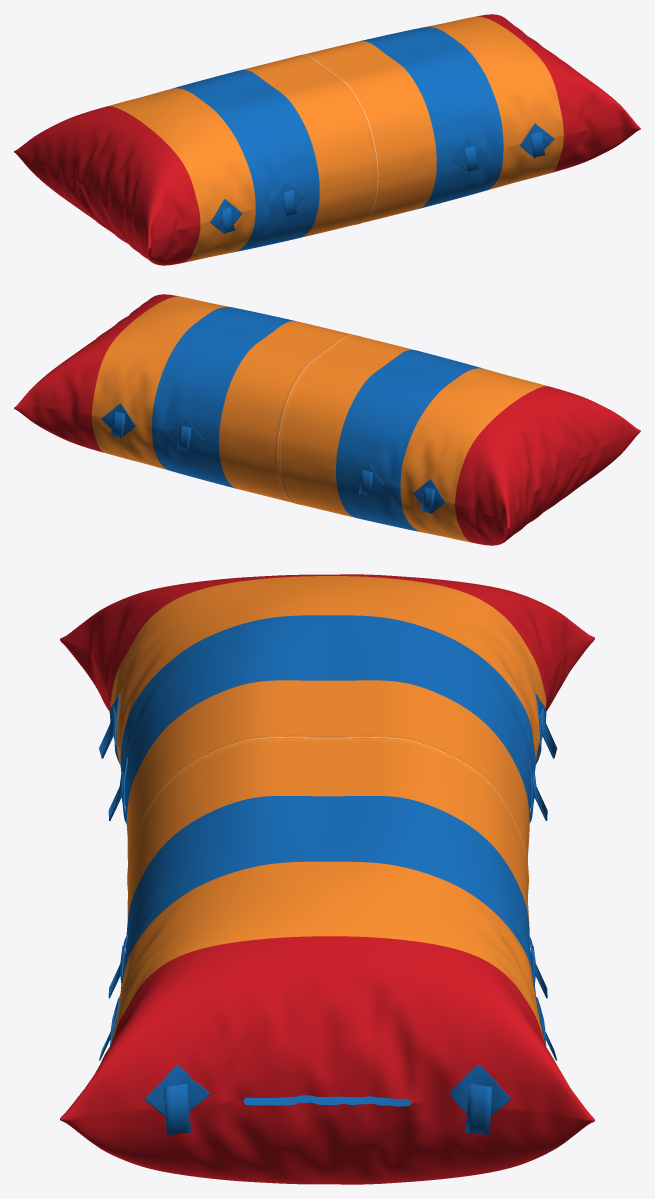
The model's file is blob30.glb.
3 renders of one model, top to bottom at view 1: azimuth 30°, elevation 25°; view 2: azimuth 150°, elevation 25°; view 3: azimuth 270°, elevation 25°, orthographic. The views are drawn at different scales.
Visible parts, largest first — view 1: Node4, Node3, Node5, Node8, Node9, Node2, Node6; view 2: Node4, Node3, Node5, Node8, Node9, Node2, Node6; view 3: Node3, Node4, Node5, Node2, Node1, Node8, Node9, Node6.
Part boxes in pixels (<box>): Node4: <box>108,16,563,262</box>; Node3: <box>14,14,640,265</box>; Node5: <box>172,27,503,251</box>; Node8: <box>210,123,554,234</box>; Node9: <box>283,145,478,215</box>; Node2: <box>221,131,544,233</box>; Node6: <box>301,55,378,223</box>; Node4: <box>91,296,547,542</box>; Node3: <box>14,294,640,545</box>; Node5: <box>151,307,482,531</box>; Node8: <box>101,403,445,513</box>; Node9: <box>177,425,372,495</box>; Node2: <box>110,411,434,513</box>; Node6: <box>277,335,354,503</box>; Node3: <box>60,574,594,1184</box>; Node4: <box>110,576,546,1042</box>; Node5: <box>120,615,535,1106</box>; Node2: <box>99,705,557,1134</box>; Node1: <box>144,1064,511,1116</box>; Node8: <box>109,694,546,1046</box>; Node9: <box>108,768,547,998</box>; Node6: <box>127,737,528,883</box>.
Bounding box in the file's own units: 144 × 39.39 × 67.34.
